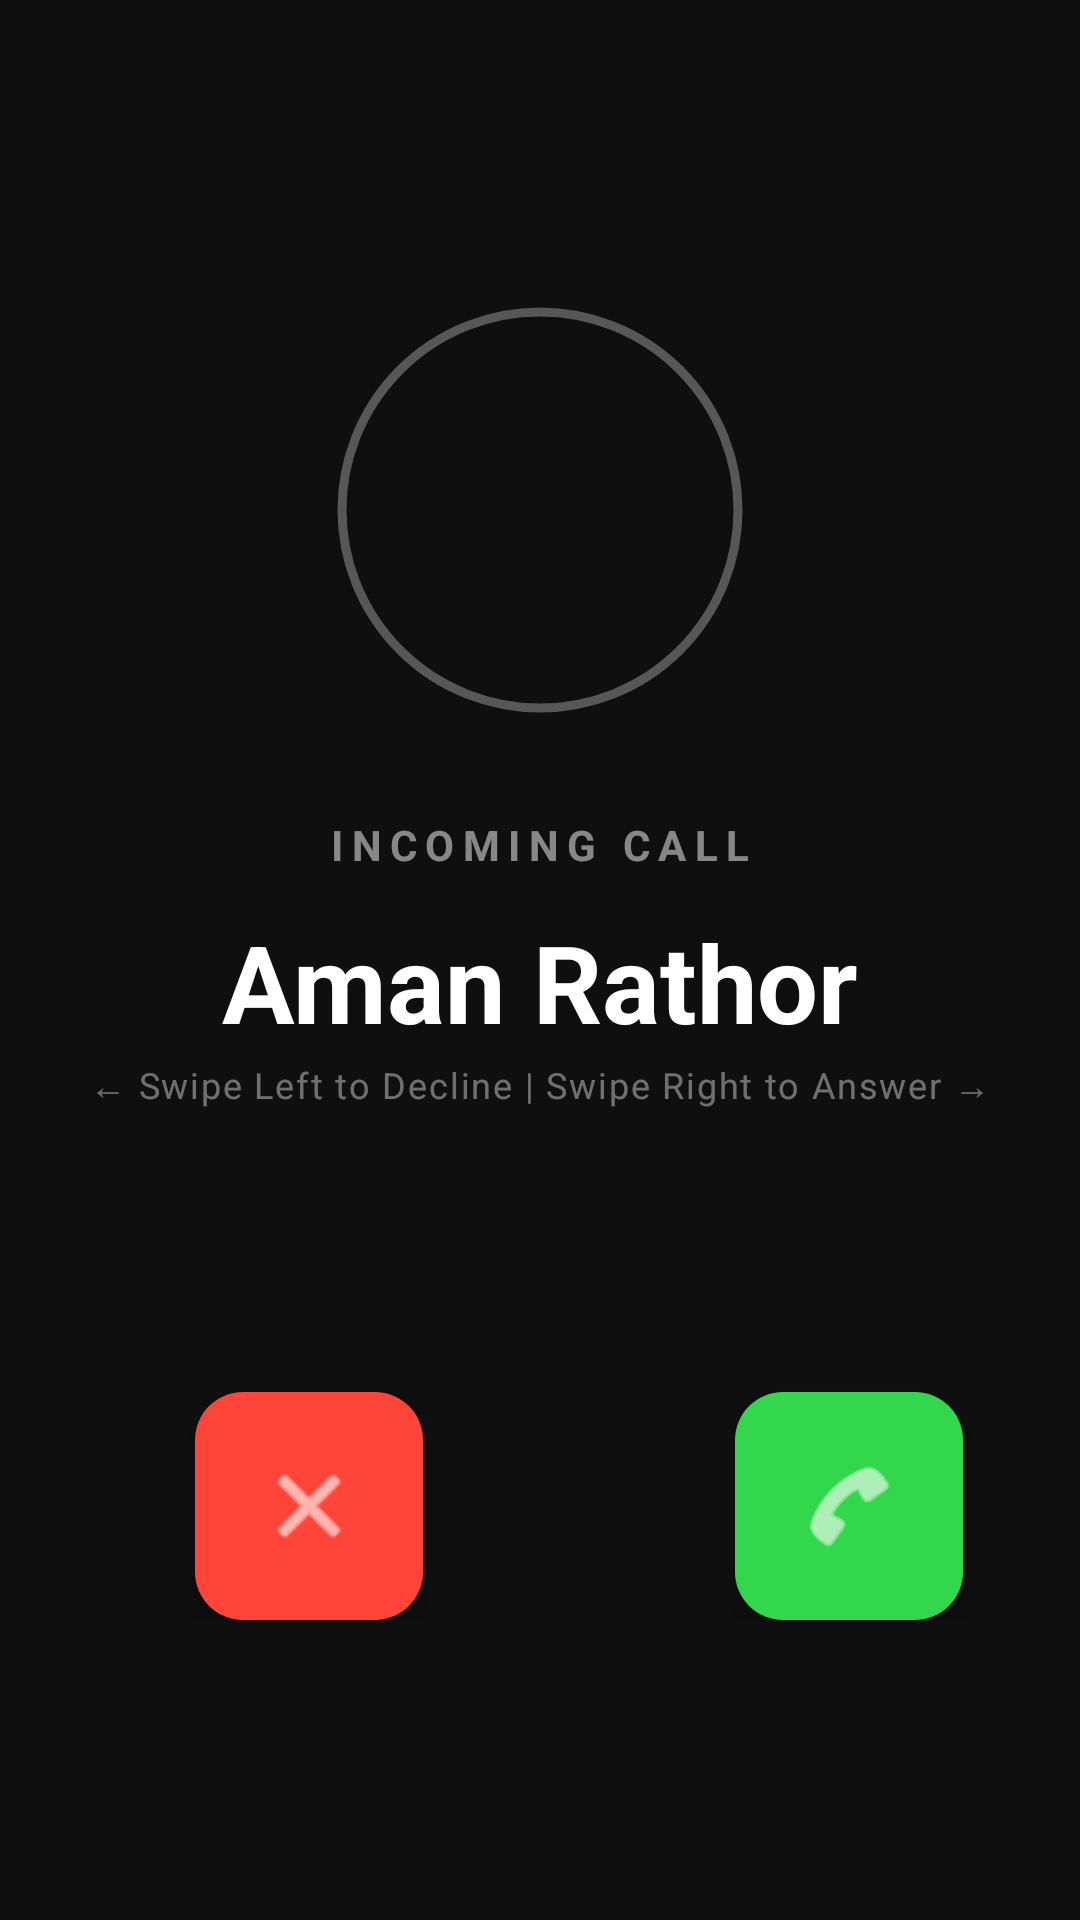

Point at icon controls on the screen. Image size 1080px x 1920px, points as point (x, y).
call: point (849, 1506)
close clear cancel: point (309, 1506)
